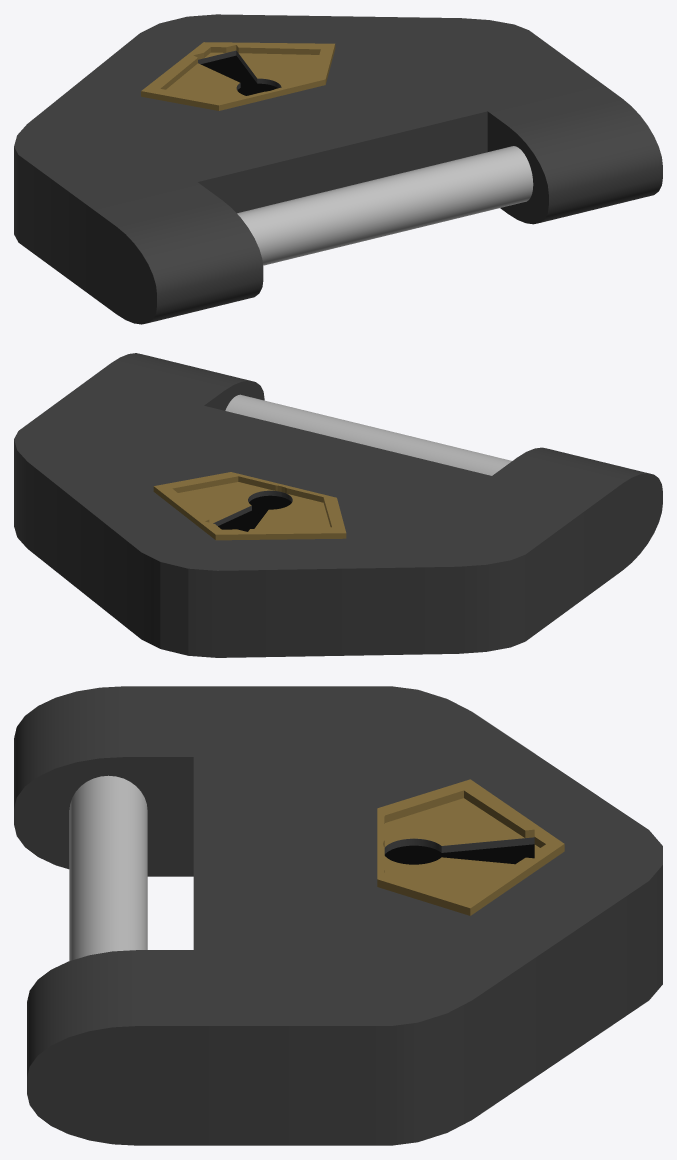
File: nankinjou.fbx
3 views of the same model, one above another, from view 1: azimuth 30°, elevation 25°; view 2: azimuth 150°, elevation 25°; view 3: azimuth 270°, elevation 25° (orthographic). The views are drawn at different scales.
Visible parts, largest first — view 1: Cube, 円柱, 平面.001, 平面; view 2: Cube, 平面.001, 円柱, 平面, 円柱.002; view 3: Cube, 平面.001, 円柱, 平面, 円柱.002.
Part boxes in pixels (x1,y1,x2,y2): Cube: [14, 14, 662, 324]; 円柱: [237, 146, 533, 265]; 平面.001: [141, 42, 335, 110]; 平面: [201, 55, 256, 87]; Cube: [14, 353, 662, 657]; 平面.001: [153, 472, 346, 540]; 円柱: [225, 394, 511, 475]; 平面: [218, 510, 264, 531]; 円柱.002: [249, 495, 291, 514]; Cube: [14, 686, 662, 1145]; 平面.001: [377, 779, 564, 915]; 円柱: [69, 775, 147, 960]; 平面: [442, 844, 534, 864]; 円柱.002: [384, 845, 444, 864].
Bounding box in the file's own units: 108 × 18.94 × 87.42.
